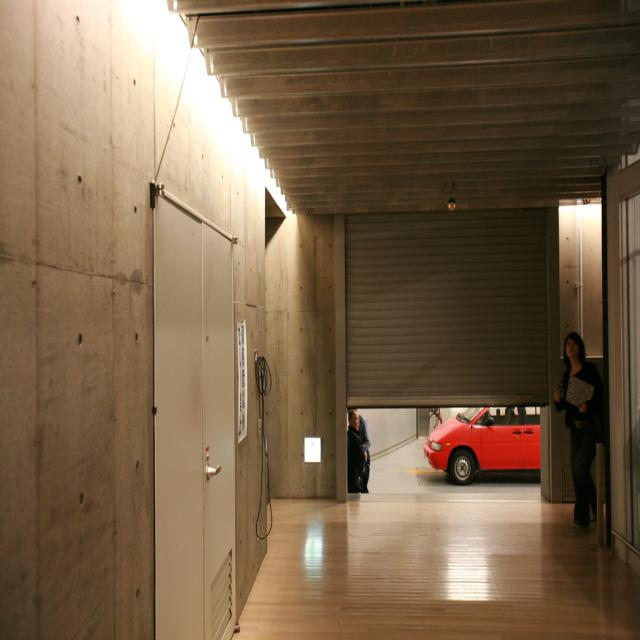car: (422, 397, 561, 487)
